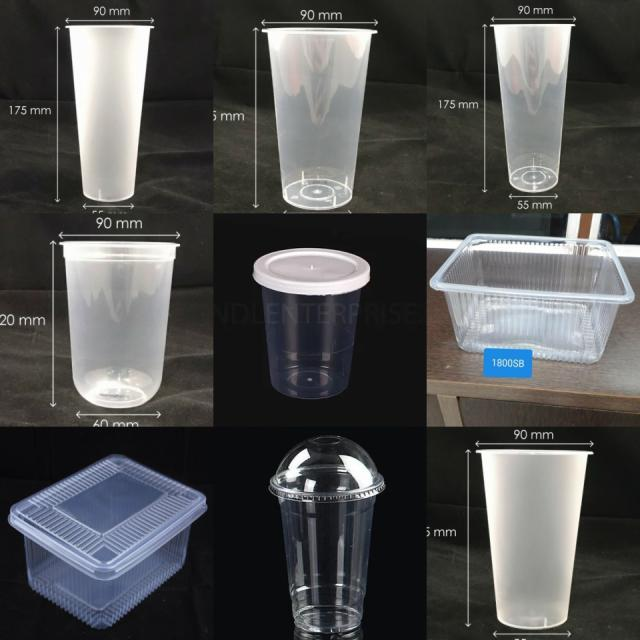Single-Use-Plastic: (9, 454, 206, 628), (430, 234, 634, 363), (269, 435, 385, 634), (476, 450, 592, 628), (262, 28, 375, 209), (61, 241, 178, 408), (252, 249, 370, 398), (68, 25, 152, 201), (493, 24, 571, 192)
